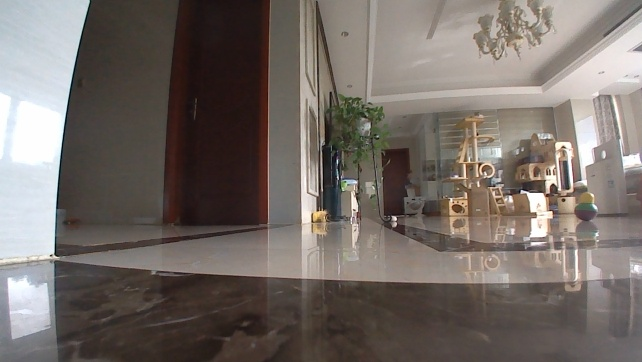door_anno: (162, 0, 271, 227), (380, 148, 411, 218)
